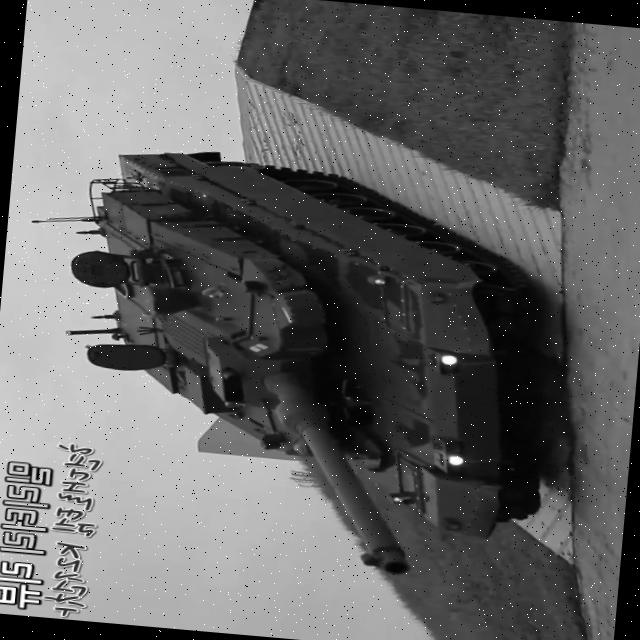korea tank: (0, 129, 582, 588)
